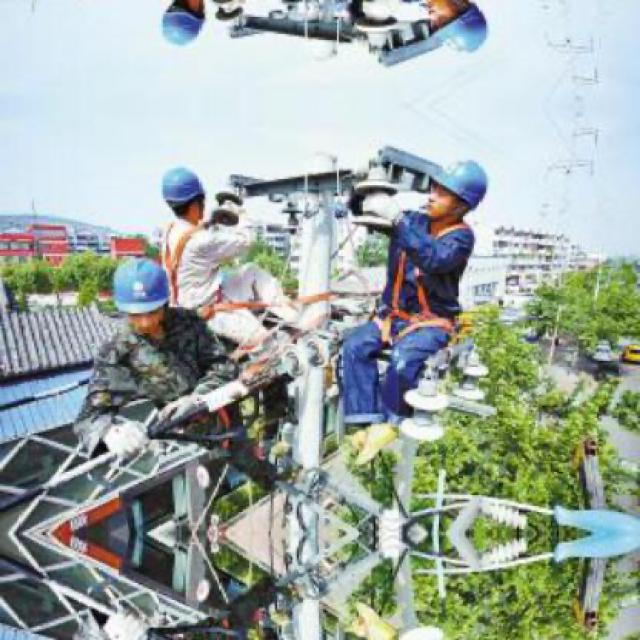helmet: (417, 151, 495, 225), (109, 250, 171, 339), (417, 0, 497, 63), (162, 162, 208, 227), (161, 0, 208, 52)
